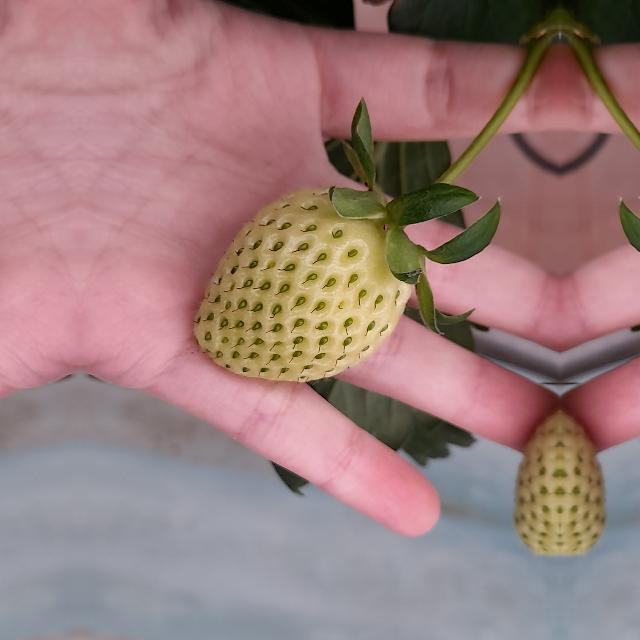Health_25: (193, 186, 411, 382)
